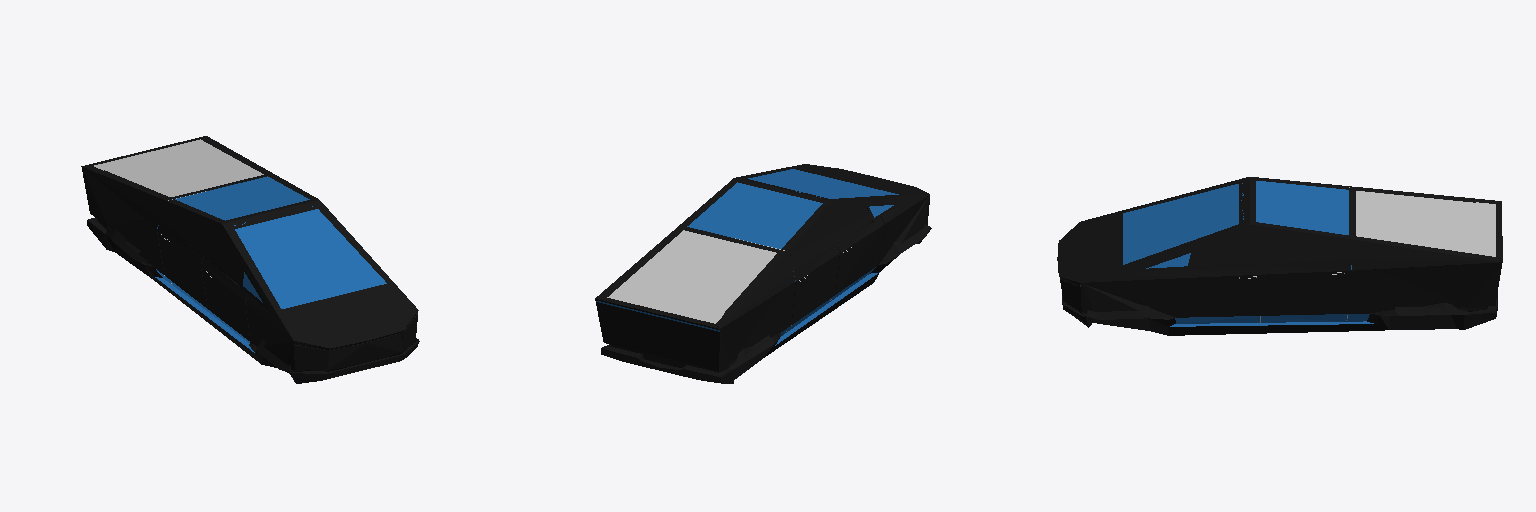
3 renders of one model, left to right at view 1: azimuth 30°, elevation 25°; view 2: azimuth 150°, elevation 25°; view 3: azimuth 270°, elevation 25°, orthographic.
Visible parts, largest first — view 1: Cube.001_Cube.000, Plane; view 2: Cube.001_Cube.000, Plane; view 3: Cube.001_Cube.000, Plane.
Part boxes in pixels (left/top/right/bottom): Cube.001_Cube.000: left=81, top=136, right=419, bottom=383; Plane: left=94, top=139, right=263, bottom=200; Cube.001_Cube.000: left=595, top=164, right=931, bottom=383; Plane: left=607, top=230, right=784, bottom=323; Cube.001_Cube.000: left=1057, top=177, right=1502, bottom=335; Plane: left=1349, top=187, right=1495, bottom=256.
Bounding box in the file's own units: 7.06 × 5.58 × 20.36.
Materials: 6 (1 with a texture image).